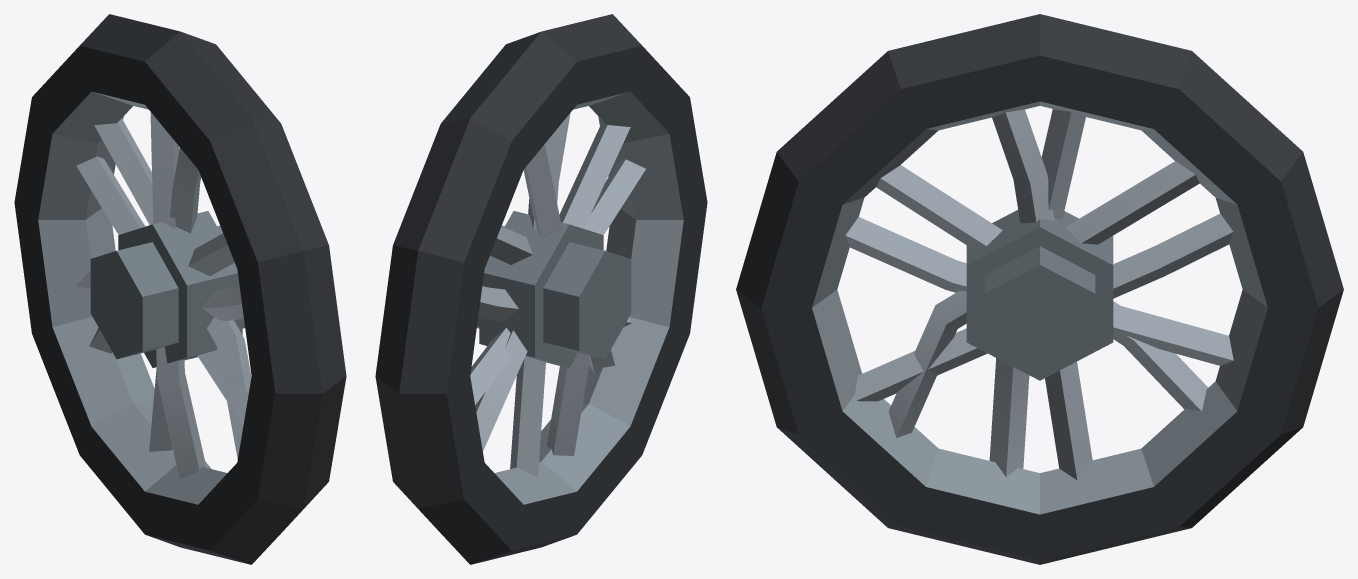
The model's file is SM_Prop_Cart_Metal_Wheel_r.glb.
3 renders of one model, left to right at view 1: azimuth 30°, elevation 25°; view 2: azimuth 150°, elevation 25°; view 3: azimuth 270°, elevation 25°, orthographic. The views are drawn at different scales.
Visible parts, largest first — view 1: SM_Prop_Cart_Metal_Wheel_r; view 2: SM_Prop_Cart_Metal_Wheel_r; view 3: SM_Prop_Cart_Metal_Wheel_r.
Part boxes in pixels (left/top/right/bottom): SM_Prop_Cart_Metal_Wheel_r: left=14, top=14, right=346, bottom=564; SM_Prop_Cart_Metal_Wheel_r: left=375, top=14, right=707, bottom=564; SM_Prop_Cart_Metal_Wheel_r: left=736, top=14, right=1343, bottom=564.
Size of the model in its own units: 0.1776 by 0.685 by 0.685.
1 material, 1 textured.
